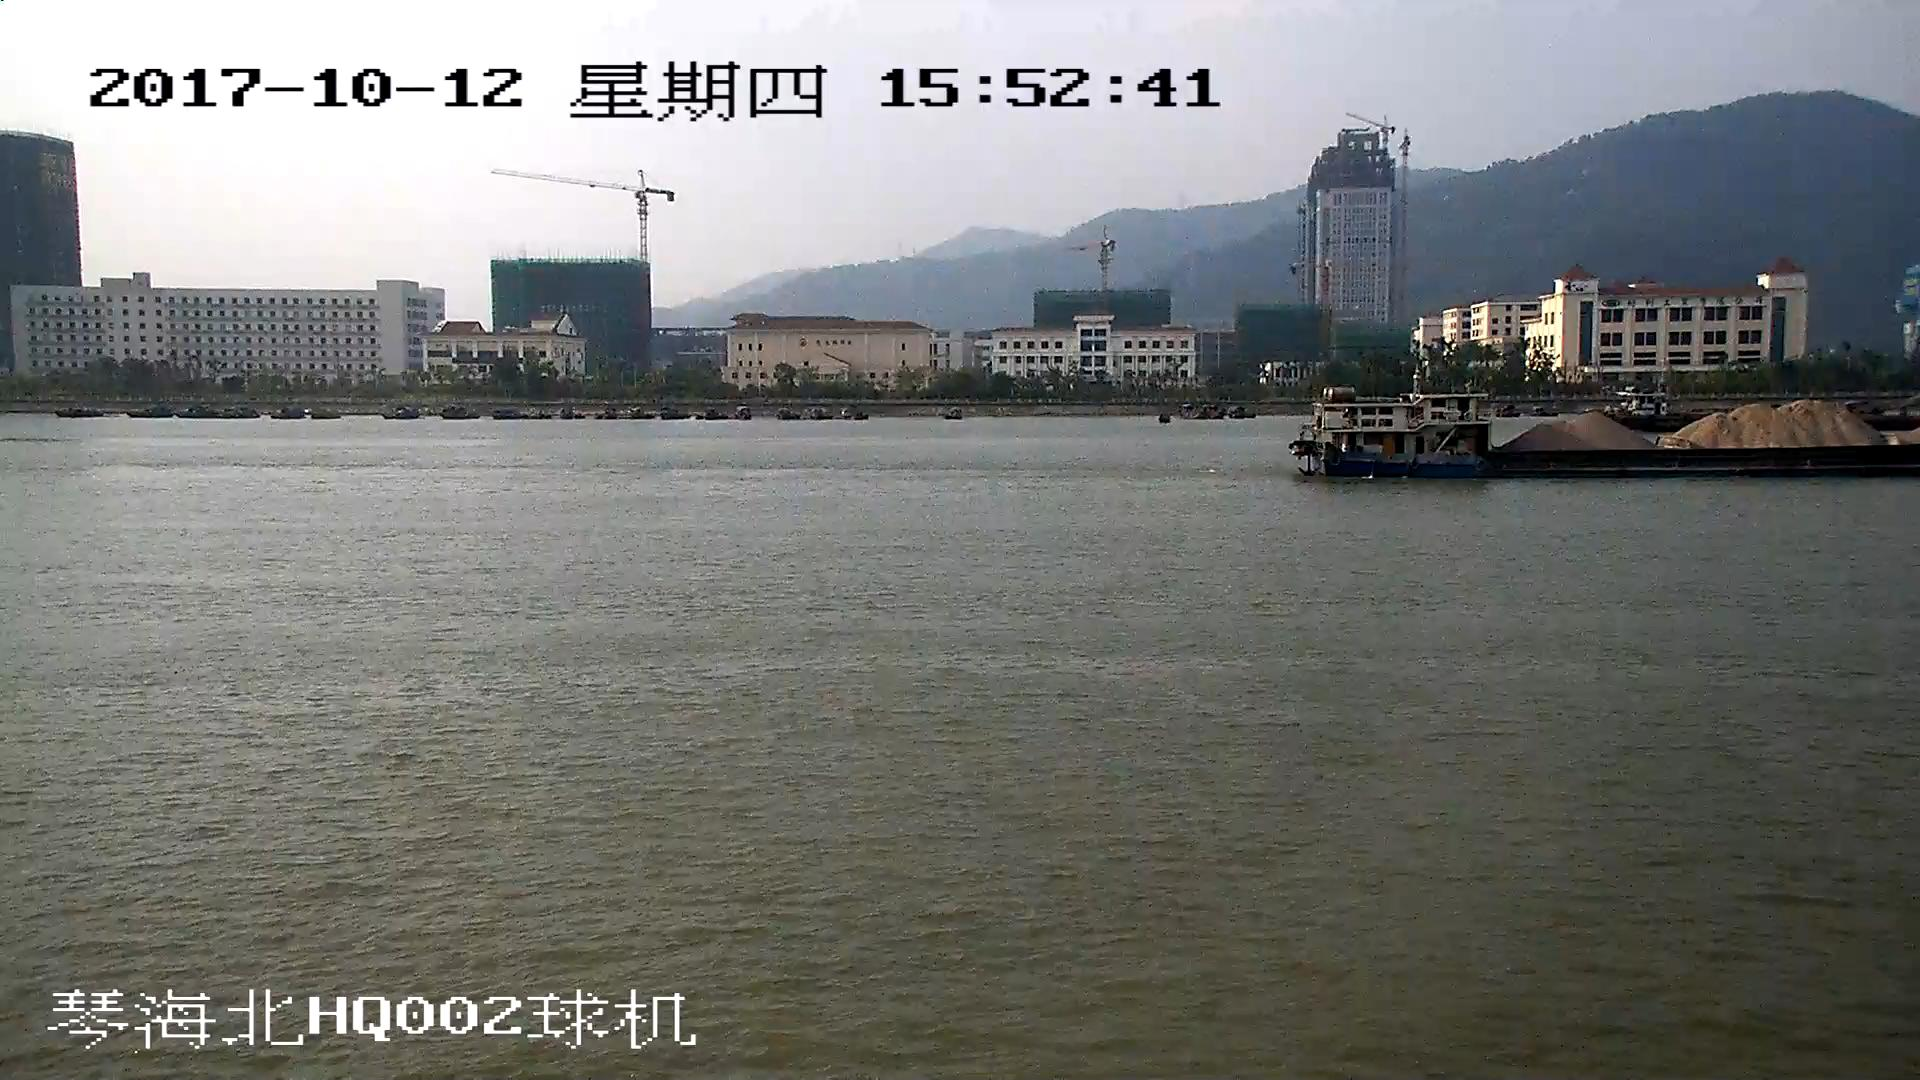ore carrier: (1303, 388, 1920, 474)
